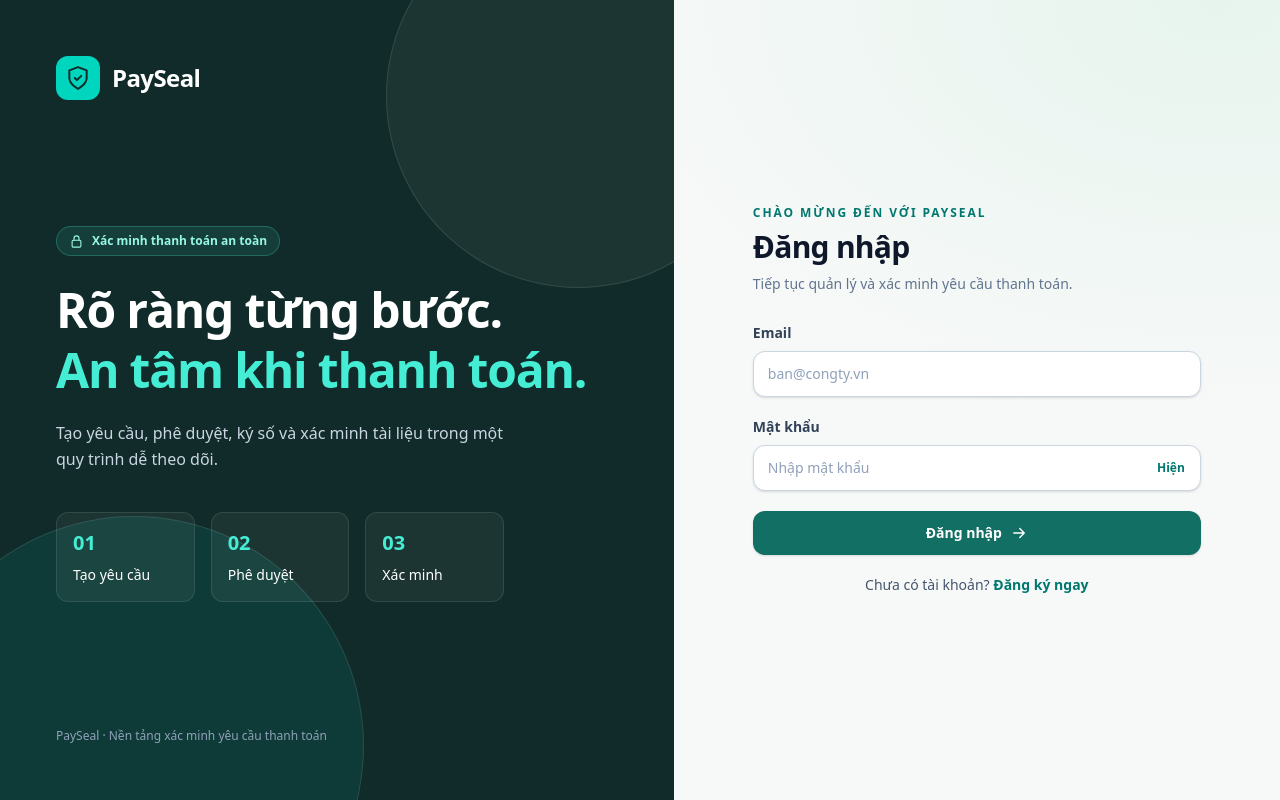
Test: automatic MFA login › keeps incorrect passwords on the credentials step
In the field labelled "Email": point(977, 374) x1=753 y1=351 x2=1201 y2=397, type "user@example.com"
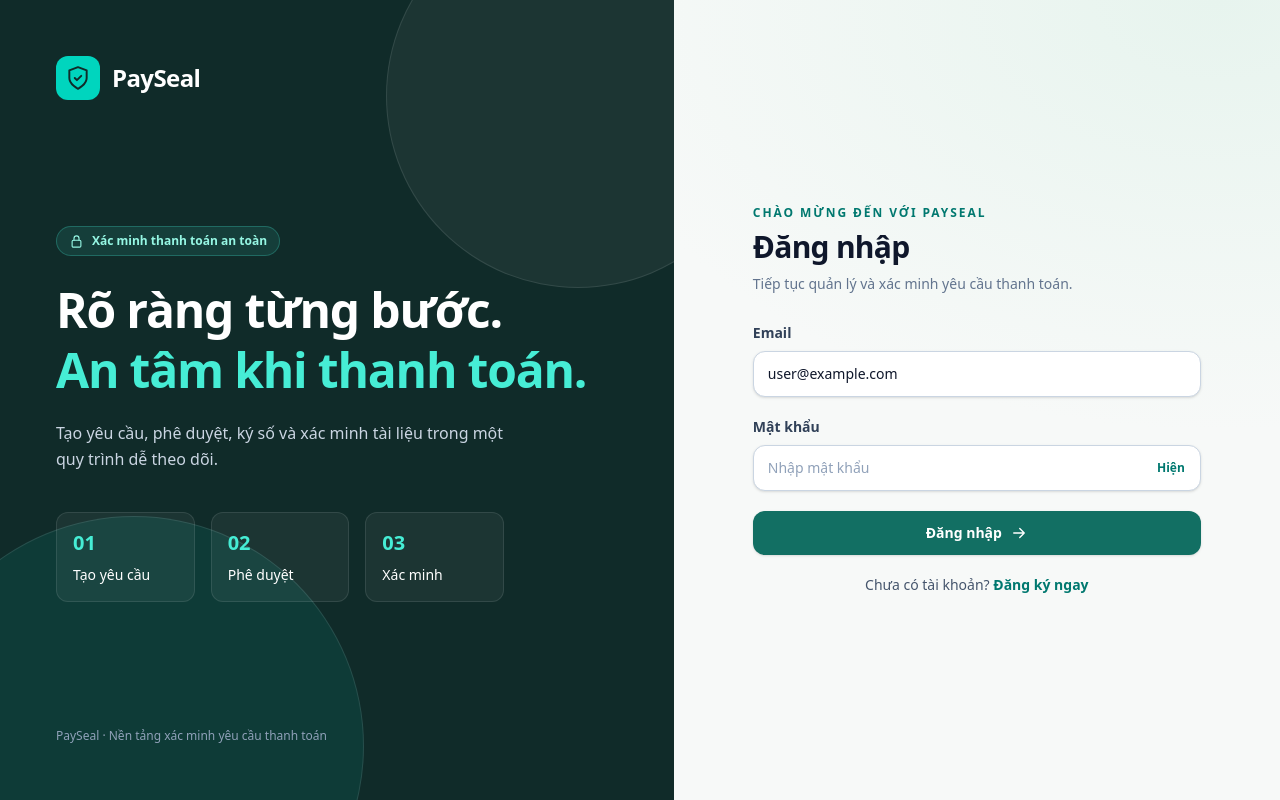
In the password field labelled "Mật khẩu": point(977, 468) x1=753 y1=445 x2=1201 y2=491, type "Strong-password!"
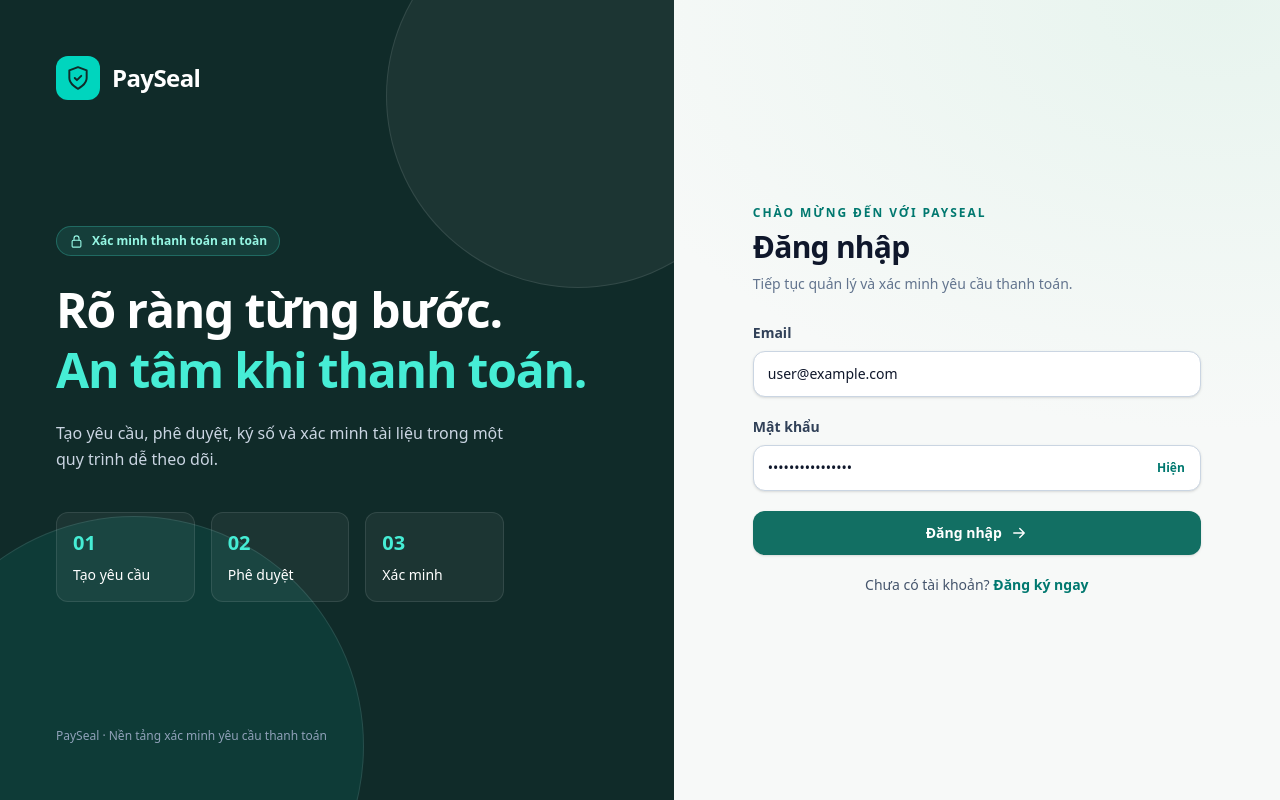
Click the button "Đăng nhập": point(977, 533) x1=753 y1=511 x2=1201 y2=555
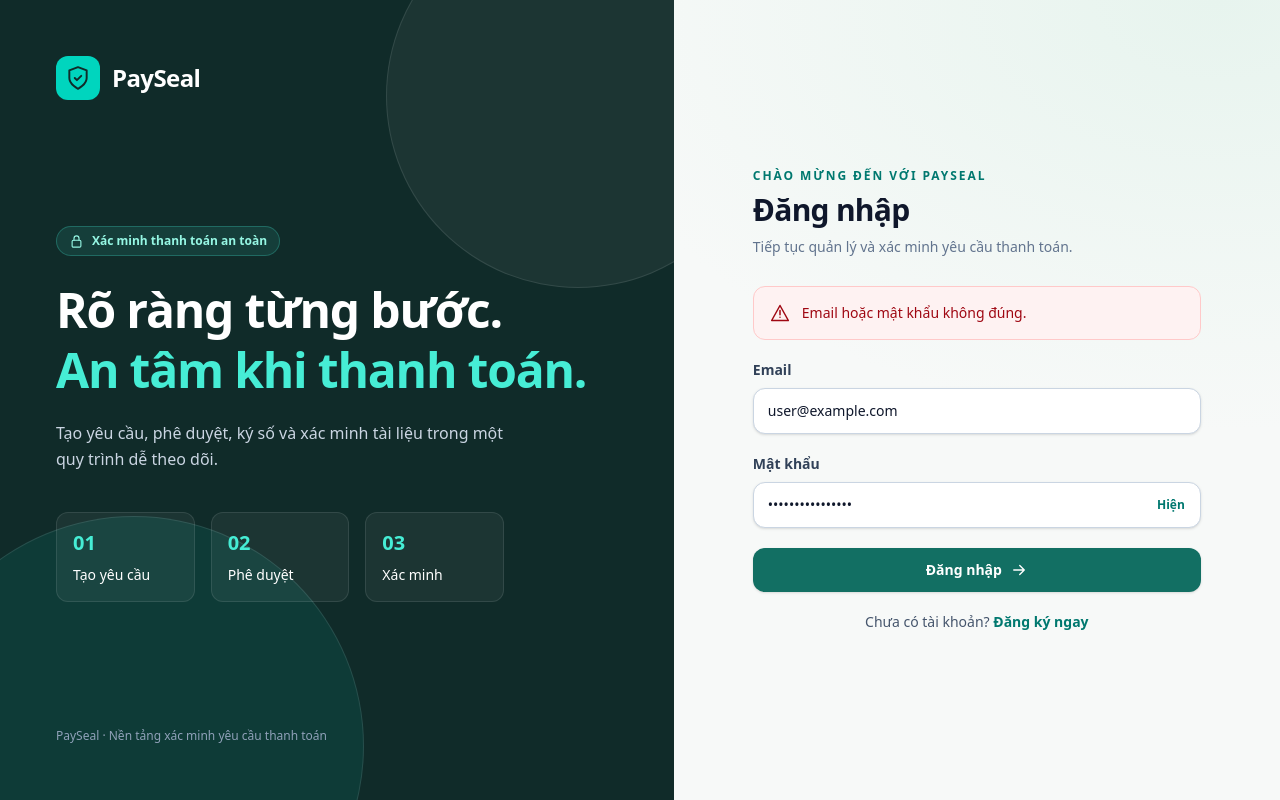
Expected: the message shows "mật khẩu không đúng", x1=802 y1=303 x2=1026 y2=322
